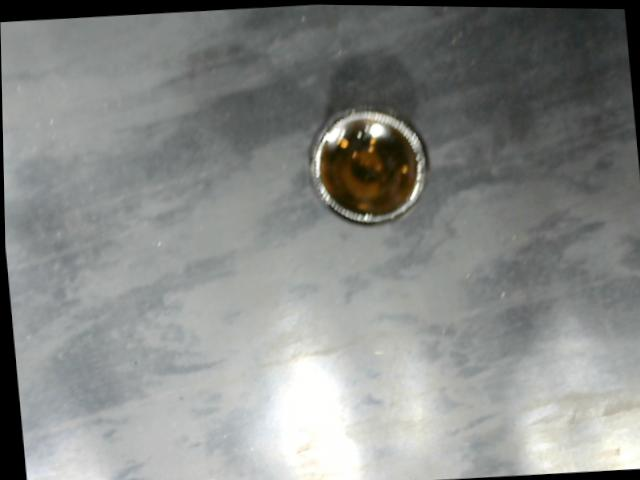glass: (303, 95, 436, 233)
